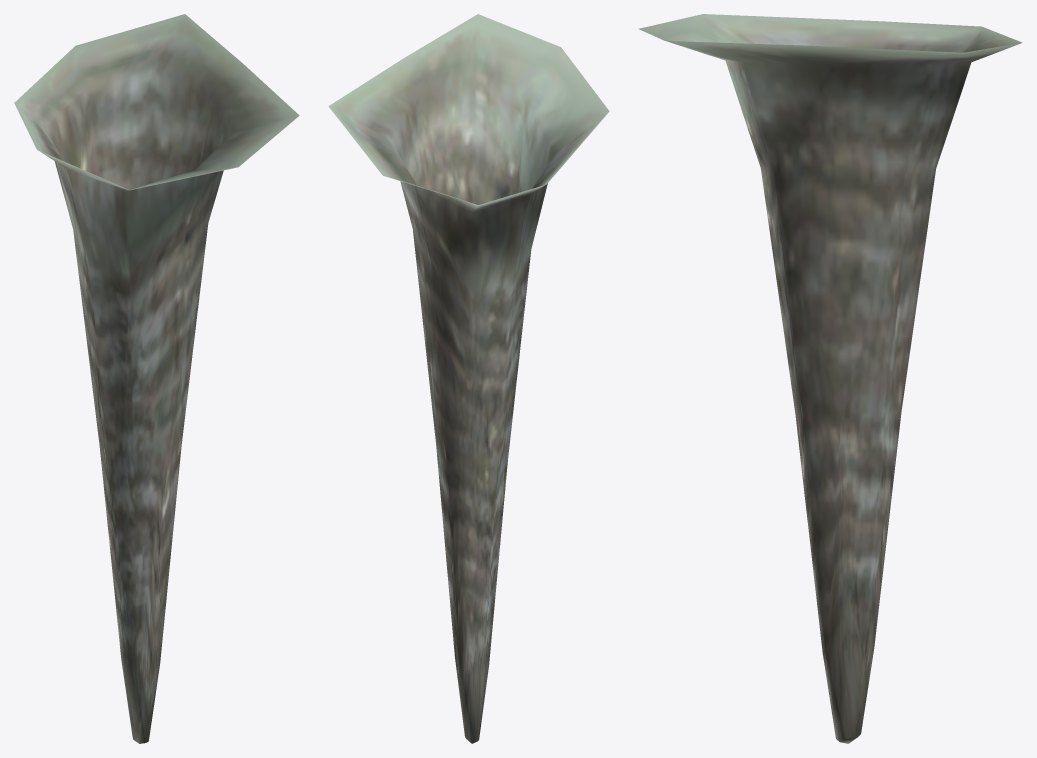
The model's file is TROLLHOLE02_PS-MAINSTALAG03.fbx.
3 renders of one model, left to right at view 1: azimuth 30°, elevation 25°; view 2: azimuth 150°, elevation 25°; view 3: azimuth 270°, elevation 25°, orthographic. The views are drawn at different scales.
Parts seen in each view (by area): view 1: TROLLHOLE02_PS-MAINSTALAG03; view 2: TROLLHOLE02_PS-MAINSTALAG03; view 3: TROLLHOLE02_PS-MAINSTALAG03.
Part boxes in pixels (left/top/right/bottom): TROLLHOLE02_PS-MAINSTALAG03: left=14, top=14, right=299, bottom=743; TROLLHOLE02_PS-MAINSTALAG03: left=328, top=14, right=609, bottom=743; TROLLHOLE02_PS-MAINSTALAG03: left=638, top=14, right=1022, bottom=743.
Bounding box in the file's own units: 8385 × 28829 × 13494.
Materials: 1 (1 with a texture image).
